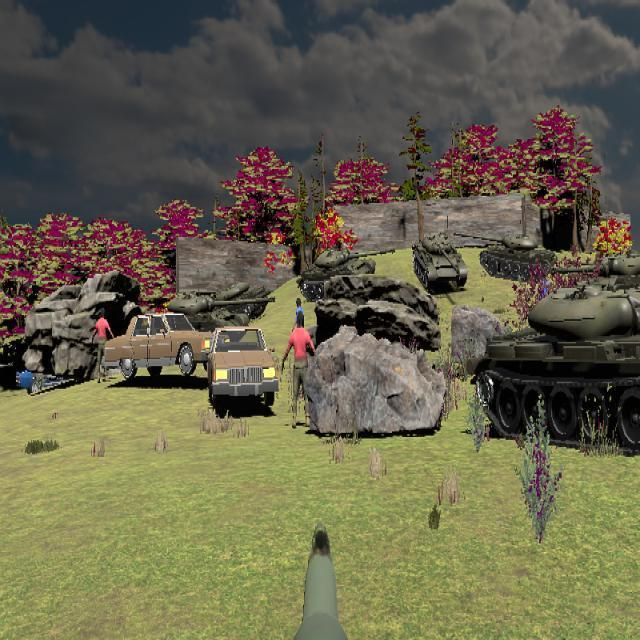Human: (281, 312, 319, 425), (91, 307, 115, 384)
Tank: (472, 283, 640, 453), (552, 252, 640, 318), (297, 247, 396, 302), (454, 231, 555, 281), (413, 233, 467, 291)
car: (100, 312, 208, 380), (207, 327, 280, 409)
